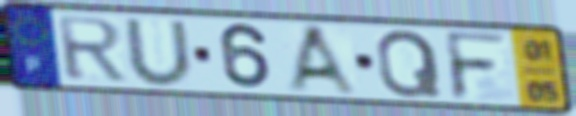6: (218, 22, 275, 91)
A: (284, 22, 364, 99)
F: (440, 29, 511, 104)
Q: (374, 28, 446, 100)
R: (53, 15, 130, 83)
U: (120, 17, 198, 88)
